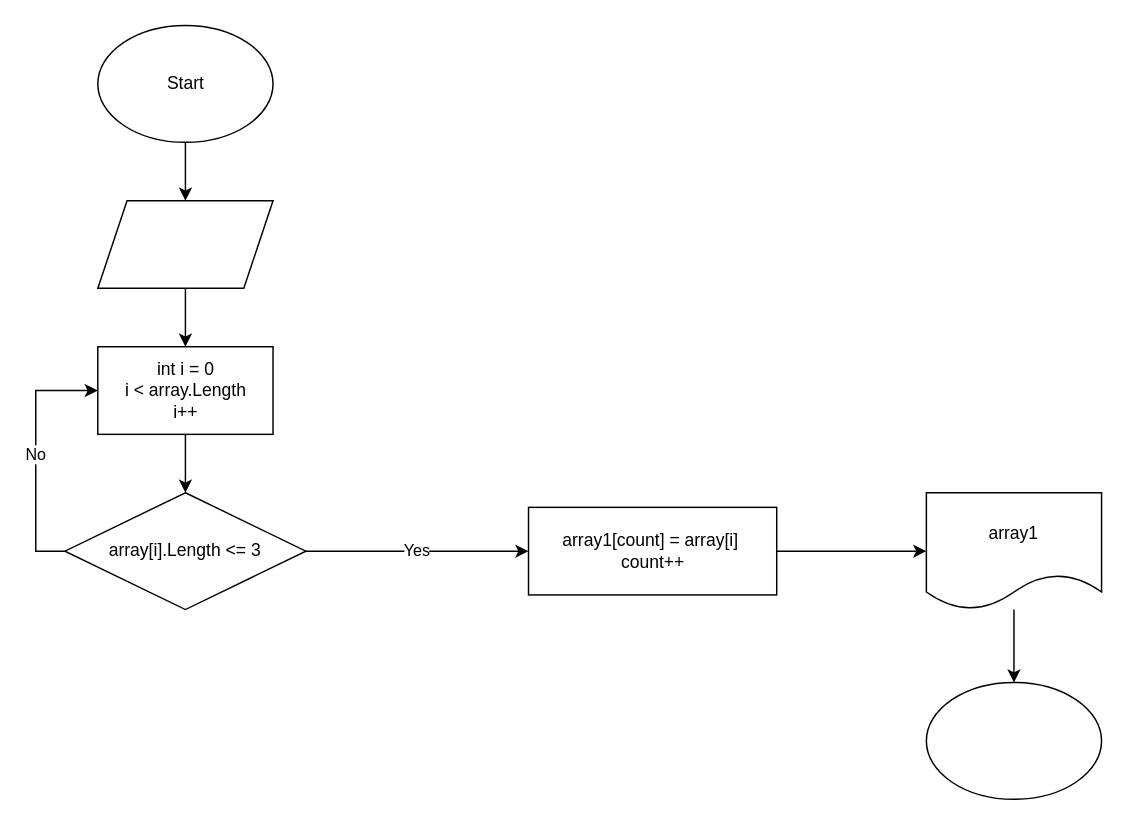
Image size: 1127x825. Some labels were removed from this diagram. Each missing label, with the box of its shape:
Finish: (925, 681, 1102, 799)
string[] array string[] array1 count = 0: (96, 199, 273, 288)
